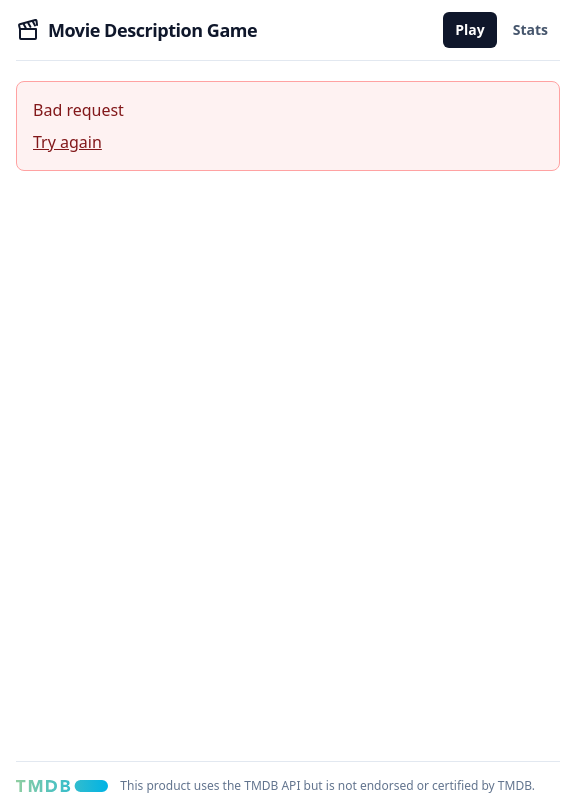
game page › shows an error with a retry when the game cannot be loaded
Check: the message shows "Bad request", box [33, 99, 124, 121]
Click the button "Try again".
click(67, 142)  # box [33, 130, 102, 154]
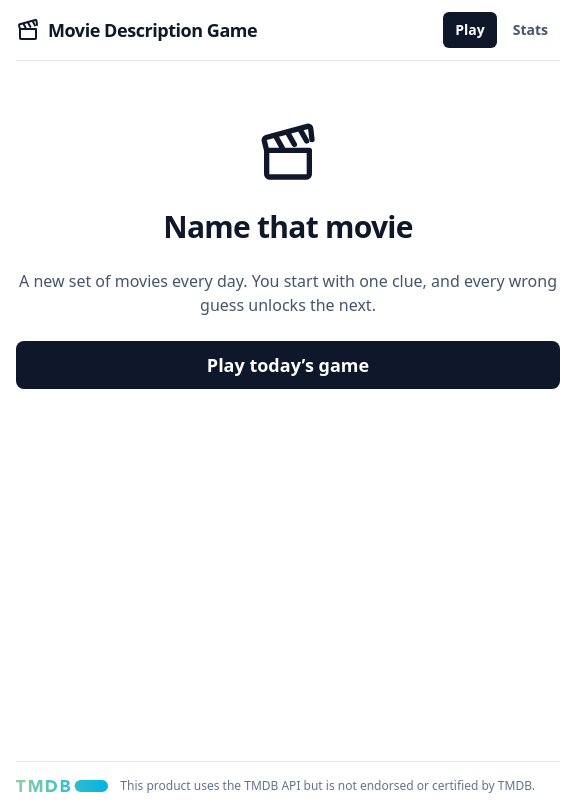
Check: the button "Play today’s game" is shown, box [16, 341, 560, 389]
